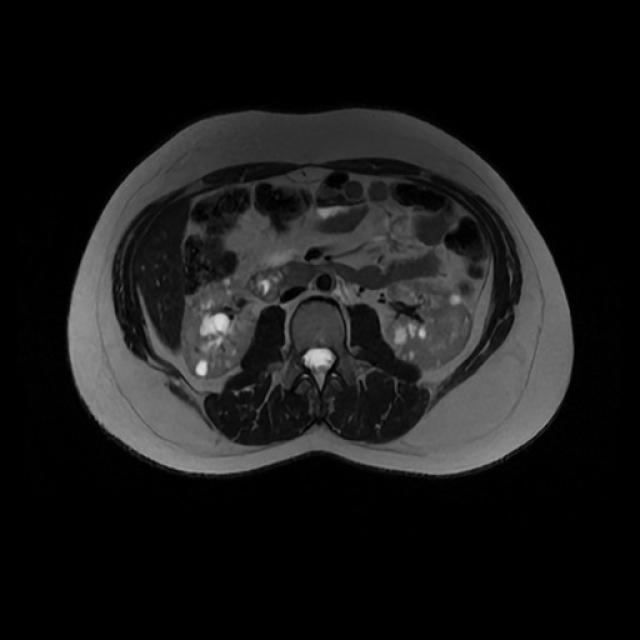sag: (183, 278, 259, 378)
sol: (385, 277, 474, 368)
